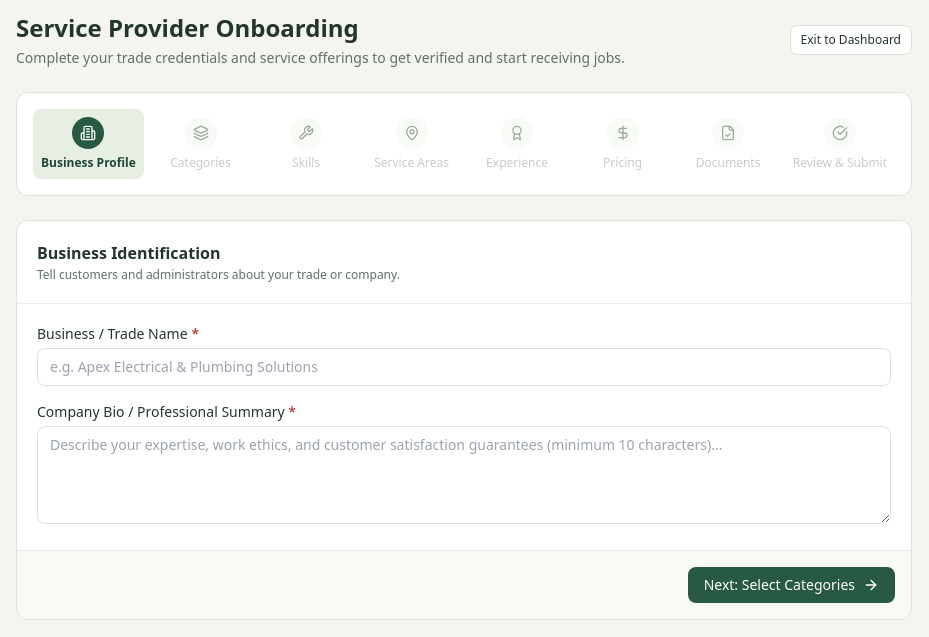
Milestone 4: Provider Onboarding, Profile & Admin Verification Frontend › ProviderOnboardingWizard: Category Selection & Resilience › should map standard API response { data: { categories } } and allow multiple selections with Next button enabling
Type "Apex Plumbing Co" into the field with placeholder "e.g. Apex Electrical & Plumbing Solutions" at (464, 367), box left=37, top=348, right=891, bottom=386
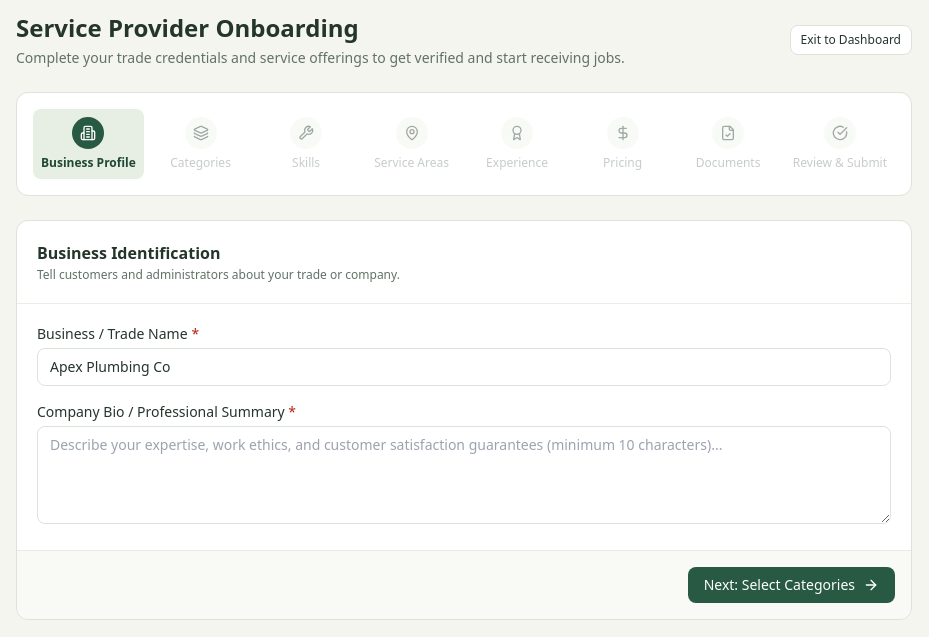
Replace the text in the text box with placeholder "Describe your expertise" with "Licensed plumbing and electrical work across the city." at (464, 475), box left=37, top=426, right=891, bottom=524
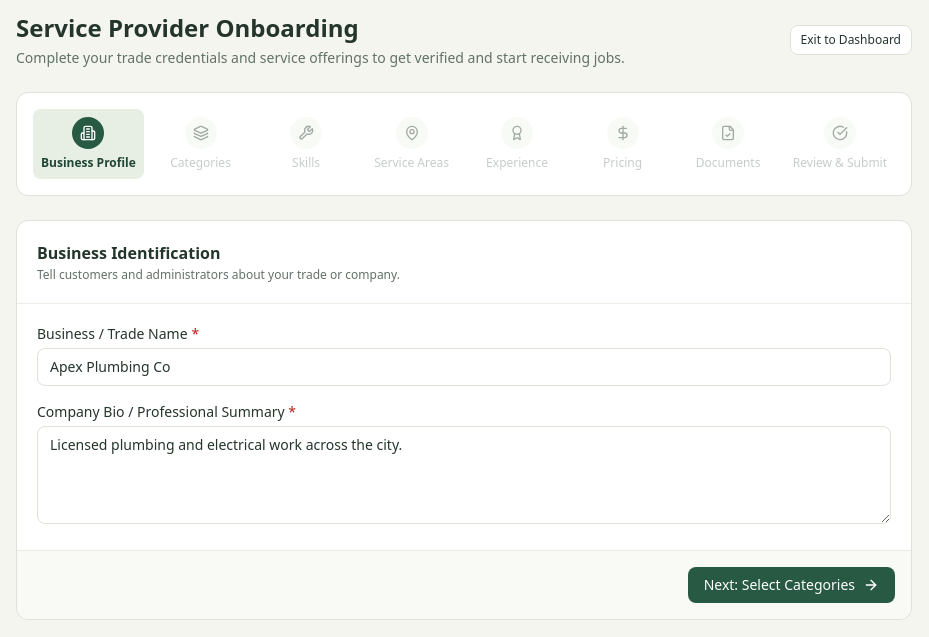
// Advance to Step 2
Click the button "Next: Select Categories" at (791, 585), box left=688, top=567, right=895, bottom=603
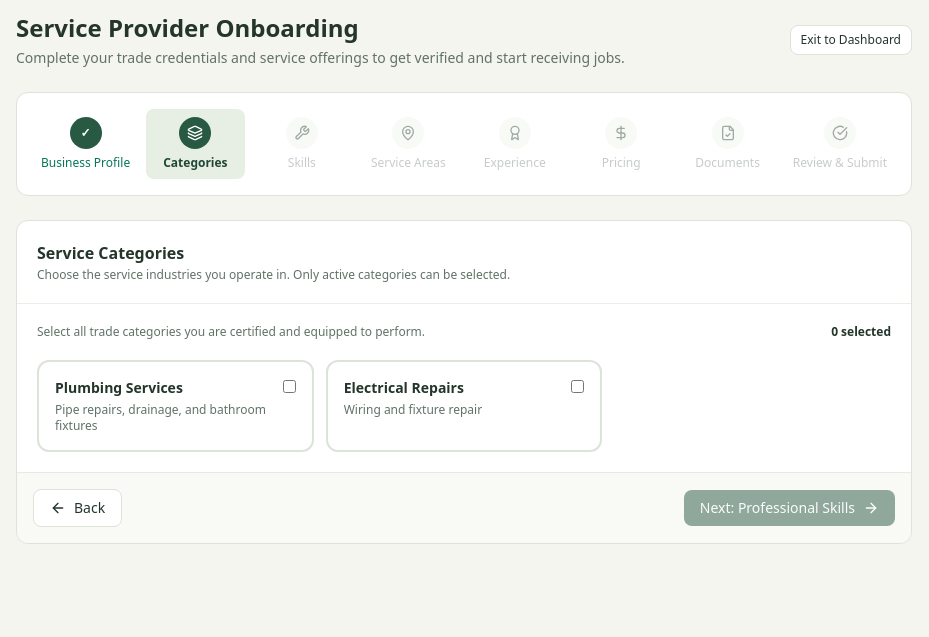
Check: the heading "Service Categories" is shown, box left=37, top=242, right=184, bottom=264
Check: the text "Plumbing Services" is shown
Check: the text "Electrical Repairs" is shown, box left=344, top=378, right=464, bottom=398
// Select first category
Click the text "Plumbing Services" at (119, 388), box left=55, top=378, right=183, bottom=398
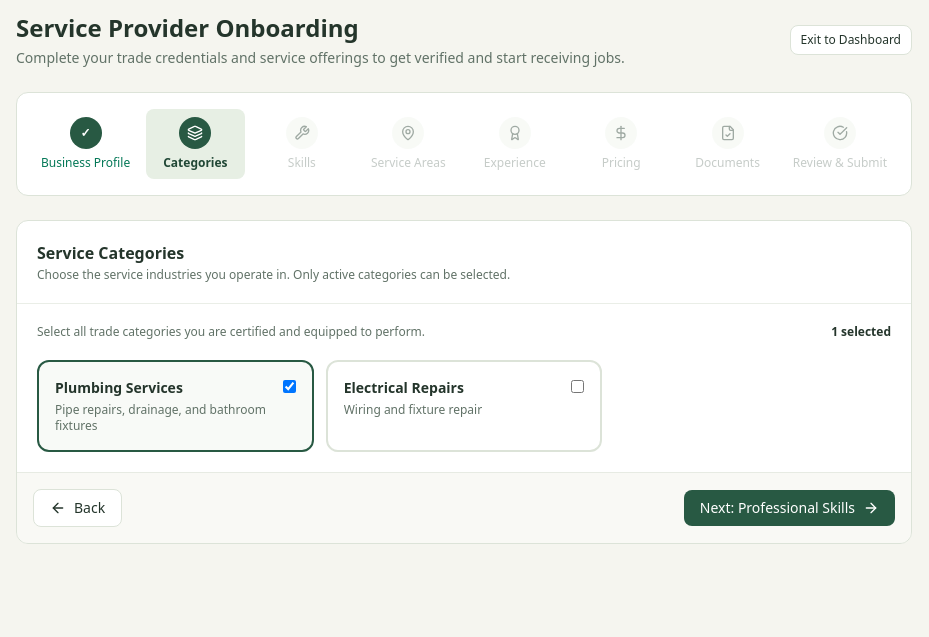
Check: the text "1 selected" is shown, box left=831, top=324, right=891, bottom=340
Check: the button "Next: Professional Skills" is enabled, box left=684, top=490, right=895, bottom=526
// Select second category
Click the text "Electrical Repairs" at (404, 388), box left=344, top=378, right=464, bottom=398
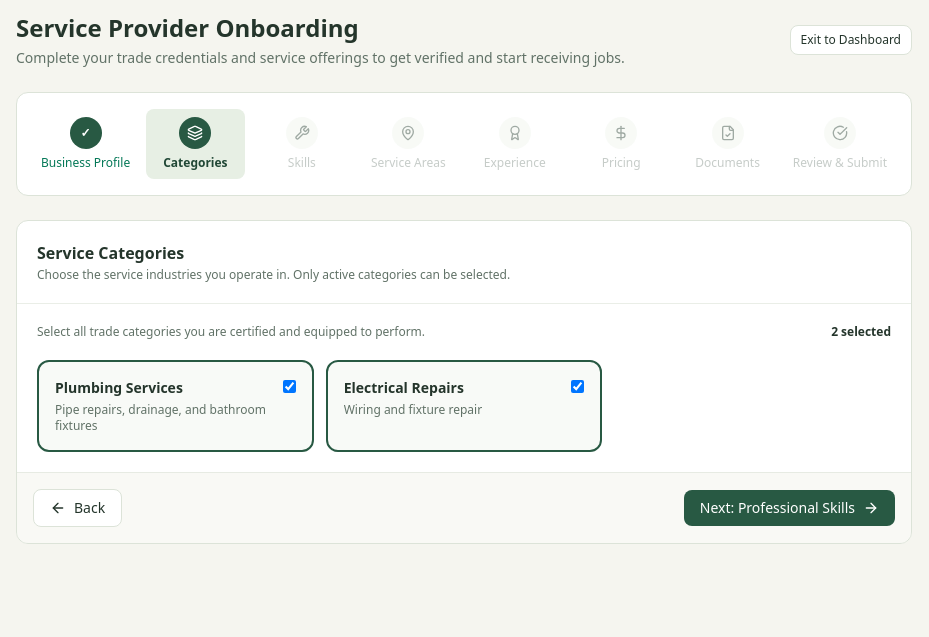
Check: the text "2 selected" is shown, box left=831, top=324, right=891, bottom=340
// Deselect first category
Click the text "Plumbing Services" at (119, 388), box left=55, top=378, right=183, bottom=398
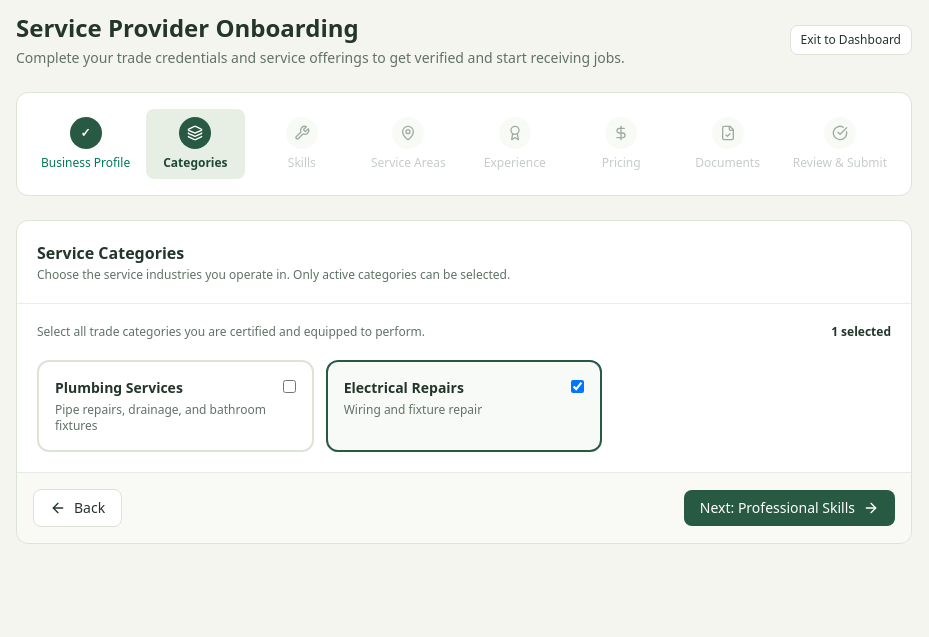
Check: the text "1 selected" is shown, box left=831, top=324, right=891, bottom=340
